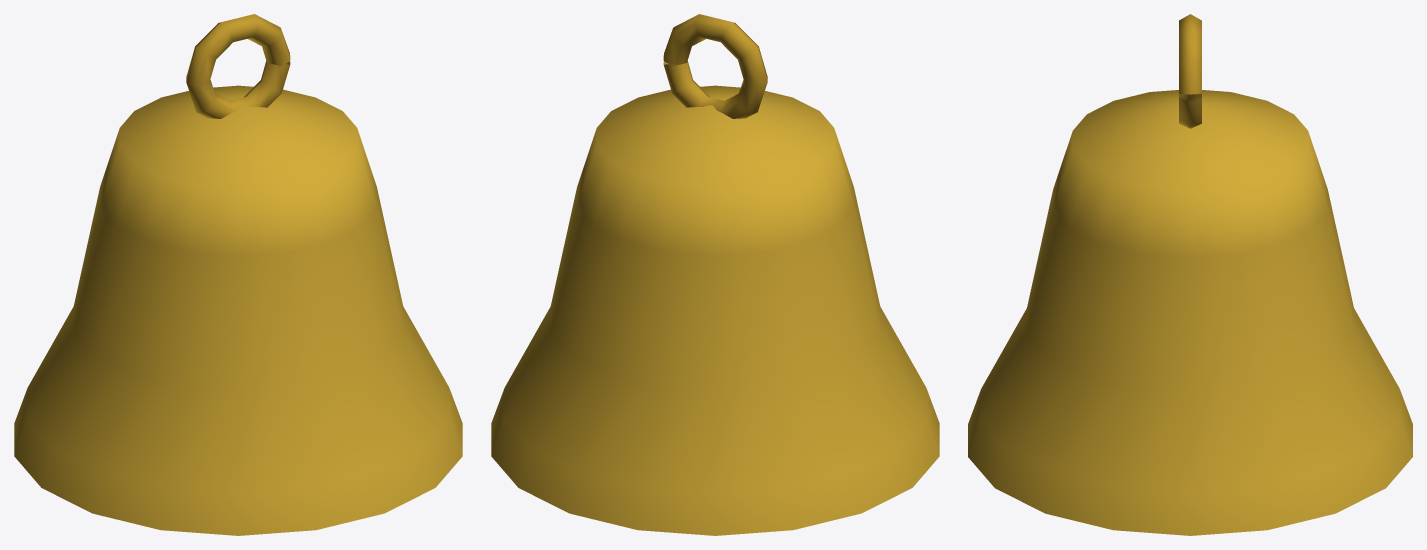
File: item_ic_q_bell.glb
The picture shows the model from 3 angles, left to right: view 1: azimuth 30°, elevation 25°; view 2: azimuth 150°, elevation 25°; view 3: azimuth 270°, elevation 25°; orthographic projection.
Visible parts, largest first — view 1: item_ic_q_bell_gloss; view 2: item_ic_q_bell_gloss; view 3: item_ic_q_bell_gloss.
Part boxes in pixels (box(x1,y1,x2,y2)): item_ic_q_bell_gloss: box(14, 14, 462, 535); item_ic_q_bell_gloss: box(491, 14, 939, 535); item_ic_q_bell_gloss: box(968, 14, 1412, 535).
Size of the model in its own units: 0.136 by 0.1491 by 0.1339.
